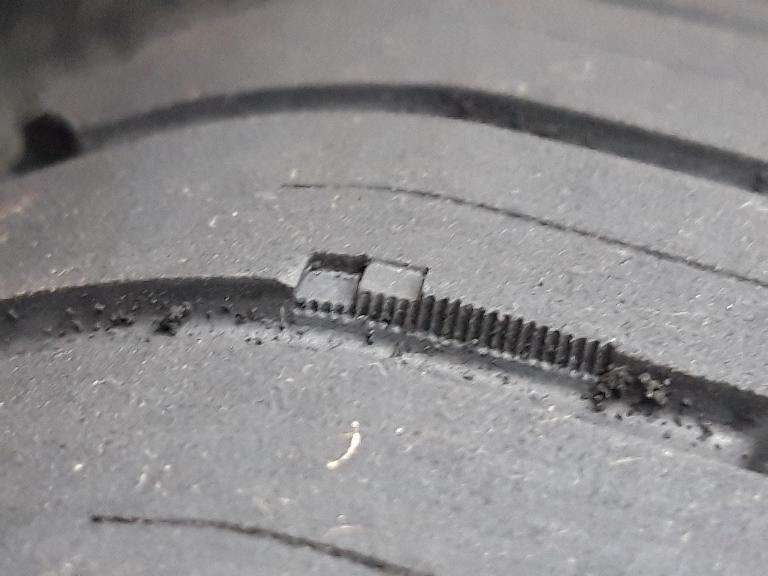temoin:25: (277, 242, 447, 349)
